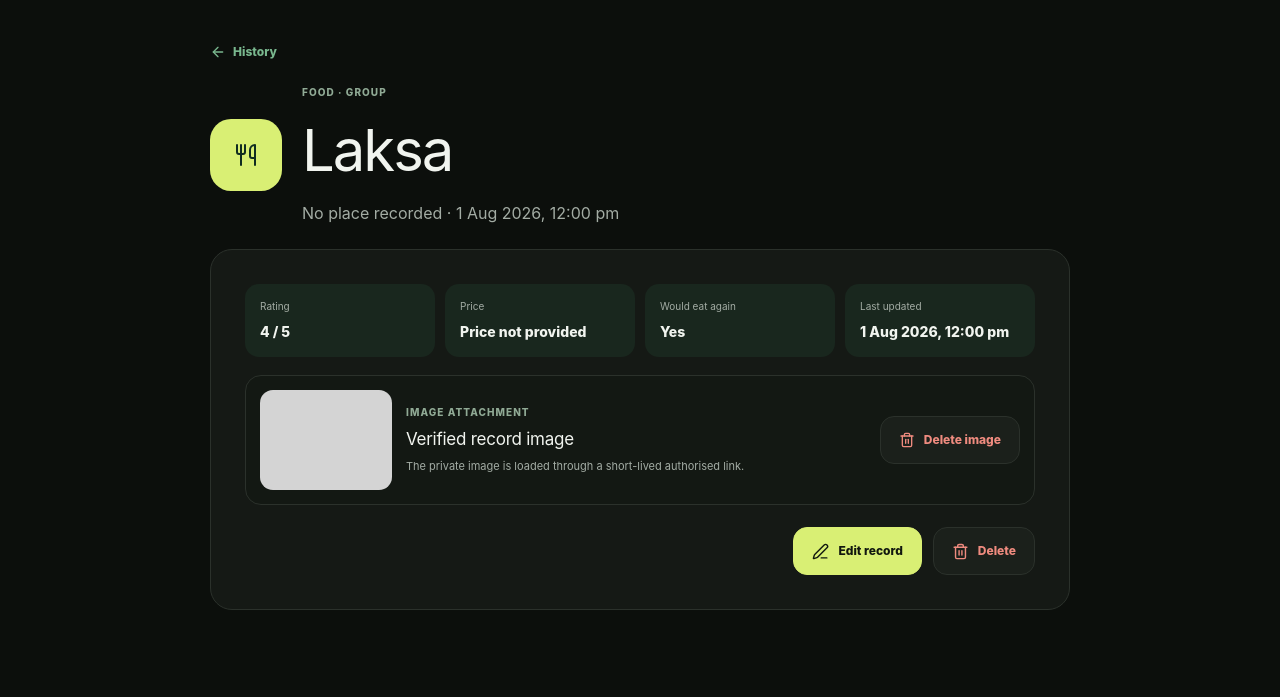
Test case: record detail image › removes an owned image from the detail after the backend confirms deletion
This screenshot has width=1280, height=697.
Click the button "Delete image".
click(950, 440)  # box x1=880 y1=416 x2=1020 y2=464
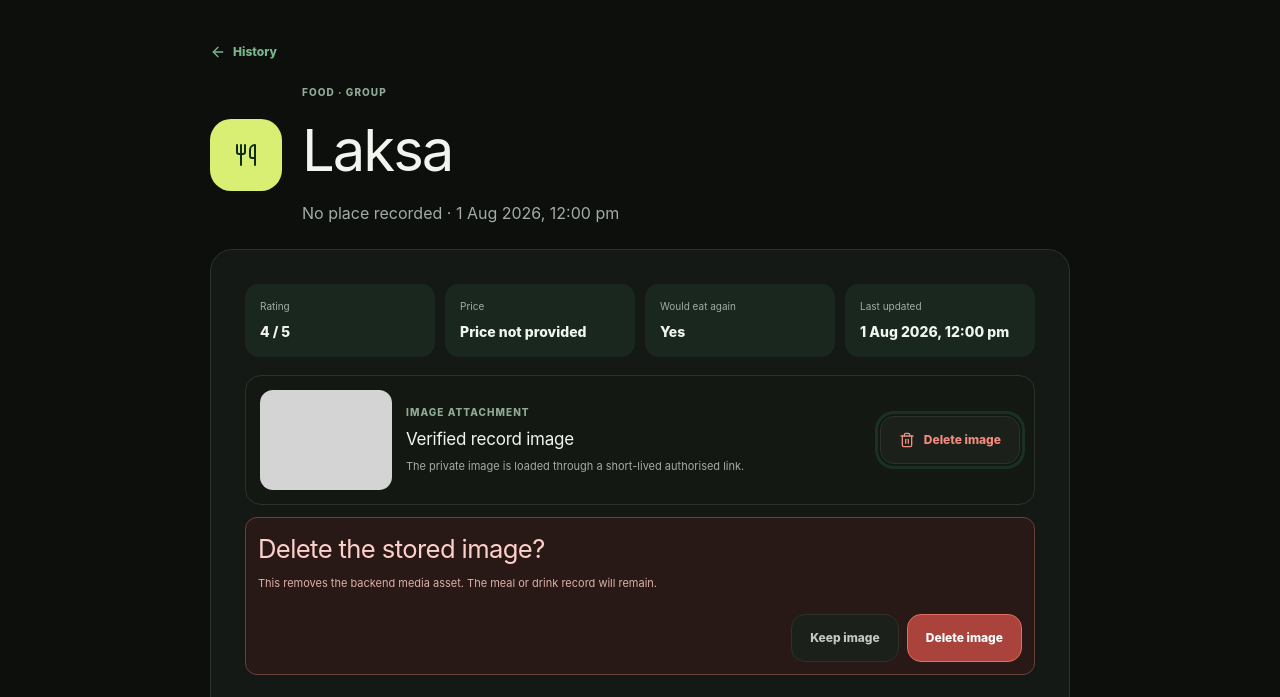
Click the 2nd button "Delete image".
click(964, 638)  # box x1=907 y1=614 x2=1022 y2=662
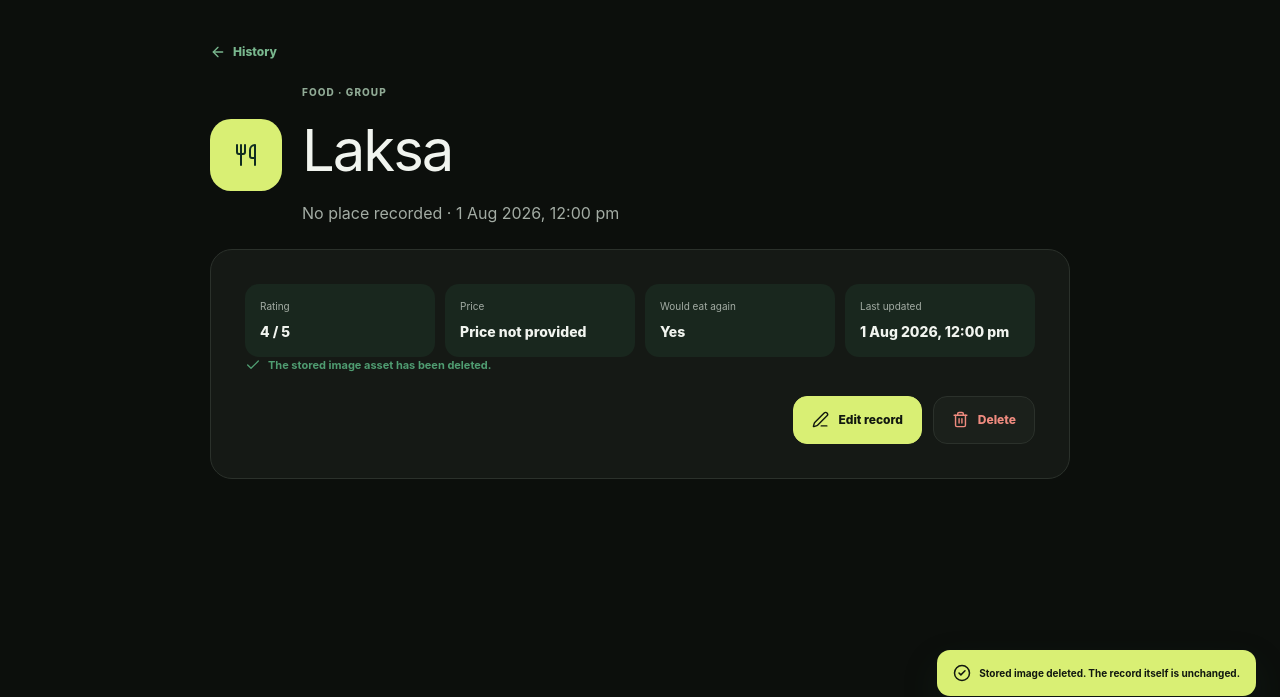
Expected: the text "The stored image asset has been deleted." is shown, x1=245 y1=357 x2=492 y2=373
